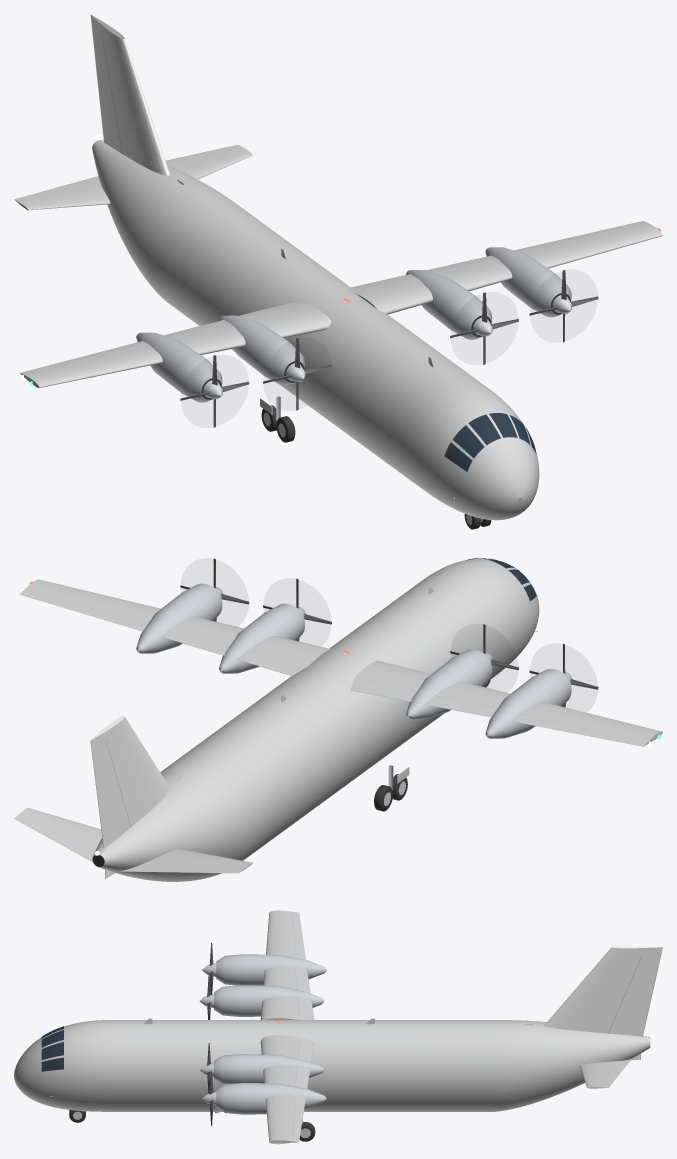
3 views of the same model, one above another, from view 1: azimuth 30°, elevation 25°; view 2: azimuth 150°, elevation 25°; view 3: azimuth 270°, elevation 25° (orthographic). The views are drawn at different scales.
Visible parts, largest first — view 1: airframe, gear; view 2: airframe, gear; view 3: airframe, gear.
Part boxes in pixels (left/top/right/bottom): airframe: left=14, top=14, right=662, bottom=520; gear: left=260, top=396, right=491, bottom=529; airframe: left=14, top=558, right=662, bottom=881; gear: left=374, top=680, right=490, bottom=811; airframe: left=14, top=910, right=662, bottom=1144; gear: left=69, top=1110, right=315, bottom=1141.
Size of the model in its own units: 30.74 by 10.66 by 36.31.
